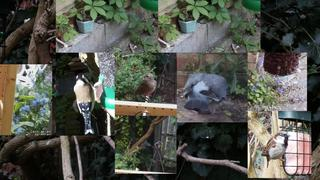goldfinch: (74, 73, 95, 135)
sparrow: (261, 131, 291, 168)
starling: (130, 73, 157, 102)
wood pigeon: (183, 73, 228, 116)
